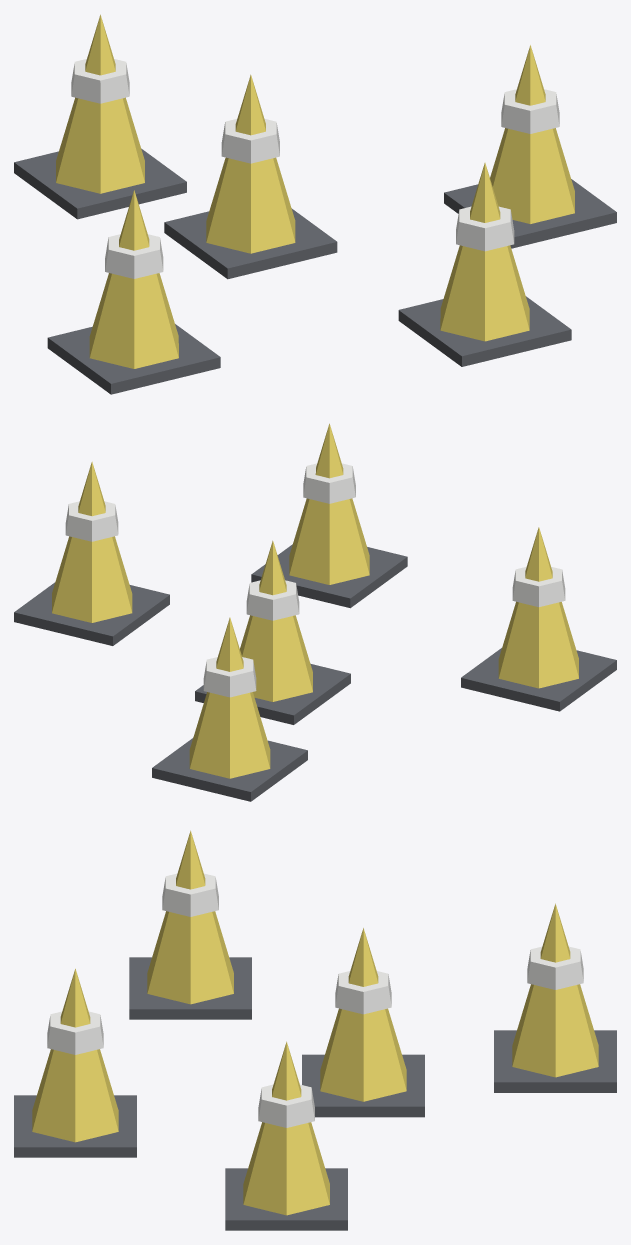
Rendered from velodrome-and-track-cycling-cone-set-9e45b1d4__38003.glb.
The picture shows the model from 3 angles, top to bottom: view 1: azimuth 30°, elevation 25°; view 2: azimuth 150°, elevation 25°; view 3: azimuth 270°, elevation 25°; orthographic projection. The views are drawn at different scales.
Parts seen in each view (by area): view 1: cone-set-canary, cone-set-charcoal, cone-set-chalk; view 2: cone-set-canary, cone-set-charcoal, cone-set-chalk; view 3: cone-set-canary, cone-set-charcoal, cone-set-chalk.
Boxes of the visible parts, x1,y1,x2,y2 form: cone-set-canary: [56, 14, 574, 368]; cone-set-charcoal: [14, 148, 616, 394]; cone-set-chalk: [71, 59, 559, 278]; cone-set-canary: [52, 423, 578, 778]; cone-set-charcoal: [14, 544, 616, 801]; cone-set-chalk: [65, 463, 565, 697]; cone-set-canary: [32, 830, 598, 1215]; cone-set-charcoal: [14, 957, 616, 1230]; cone-set-chalk: [47, 873, 583, 1127].
Size of the model in its own units: 1.62 by 0.47 by 1.57.
